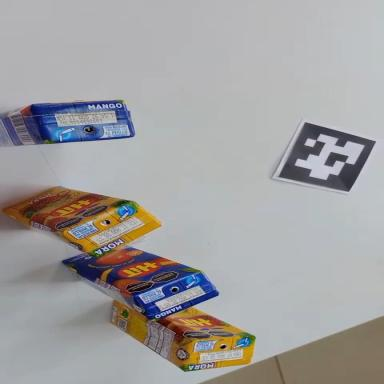HIT-MANGO: (54, 226, 224, 339), (0, 97, 135, 148)
HIT-MORA: (99, 276, 261, 384), (0, 177, 165, 268)
cara_F: (58, 226, 202, 314), (1, 159, 133, 253), (157, 295, 254, 363)
